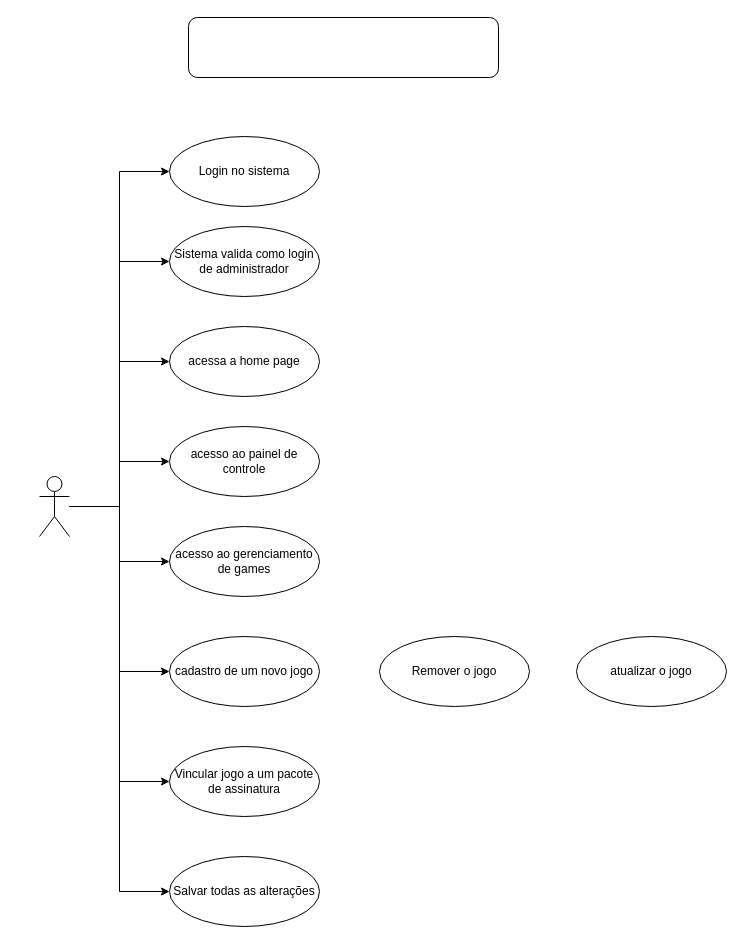
This 744x944 diagram has some shape labels left out. The shapes that lost their labels are listed below. From the top down, each one's box as (x1, y1, x2, y2) in pixels, then its label:
(188, 16, 498, 78): Caso de uso 3: Administrador gestão de jogos
(38, 476, 70, 536): Administrador
